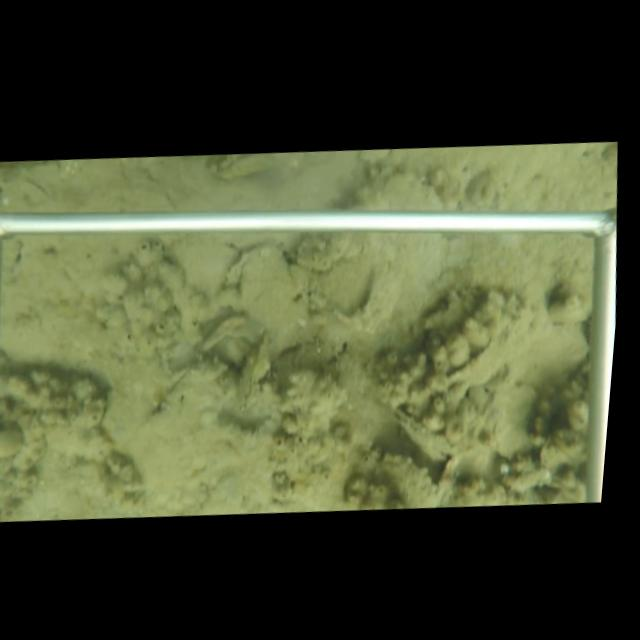Oyster-Closed: (236, 331, 273, 418)
